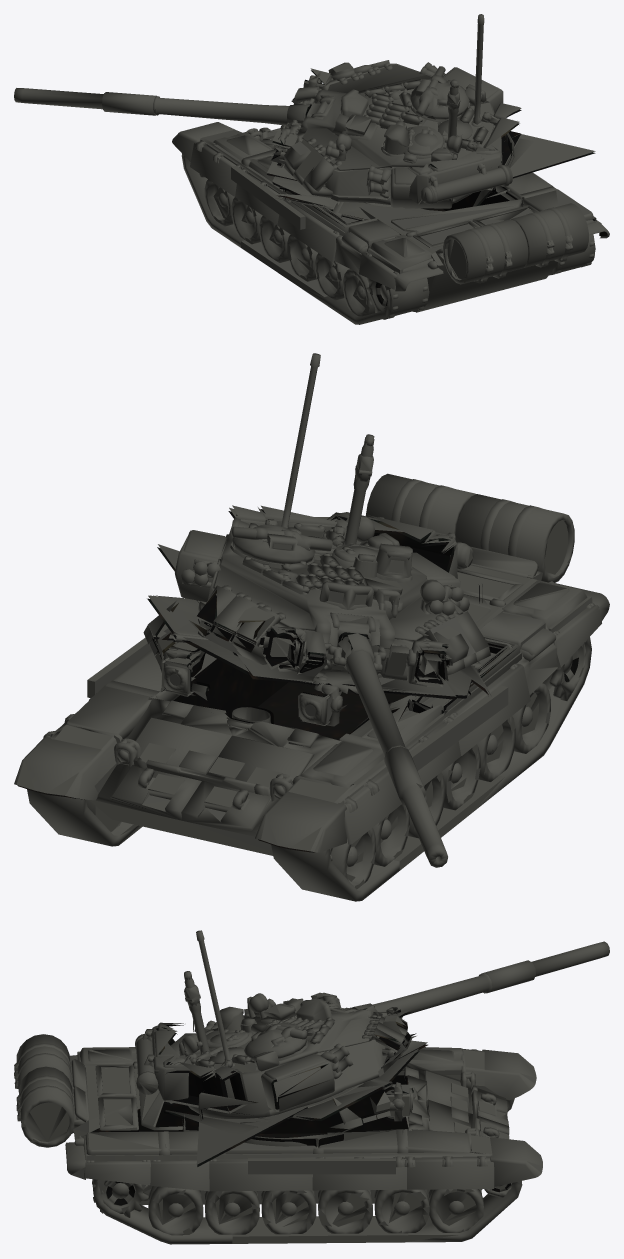
Rendered from t90-wreck.glb.
The picture shows the model from 3 angles, top to bottom: view 1: azimuth 30°, elevation 25°; view 2: azimuth 150°, elevation 25°; view 3: azimuth 270°, elevation 25°; orthographic projection. The views are drawn at different scales.
Parts seen in each view (by area): view 1: hull, turret, barrel; view 2: hull, turret, barrel; view 3: hull, turret, barrel.
Boxes of the visible parts, x1,y1,x2,y2 form: hull: (172,122,609,324); turret: (267,14,595,220); barrel: (14,88,311,129); hull: (14,473,609,901); turret: (147,353,490,699); barrel: (342,633,447,867); hull: (14,1020,542,1244); turret: (154,930,427,1203); barrel: (349,941,609,1014).
Size of the model in its own units: 6.71 by 4.29 by 8.2.
Materials: 3 (1 with a texture image).
